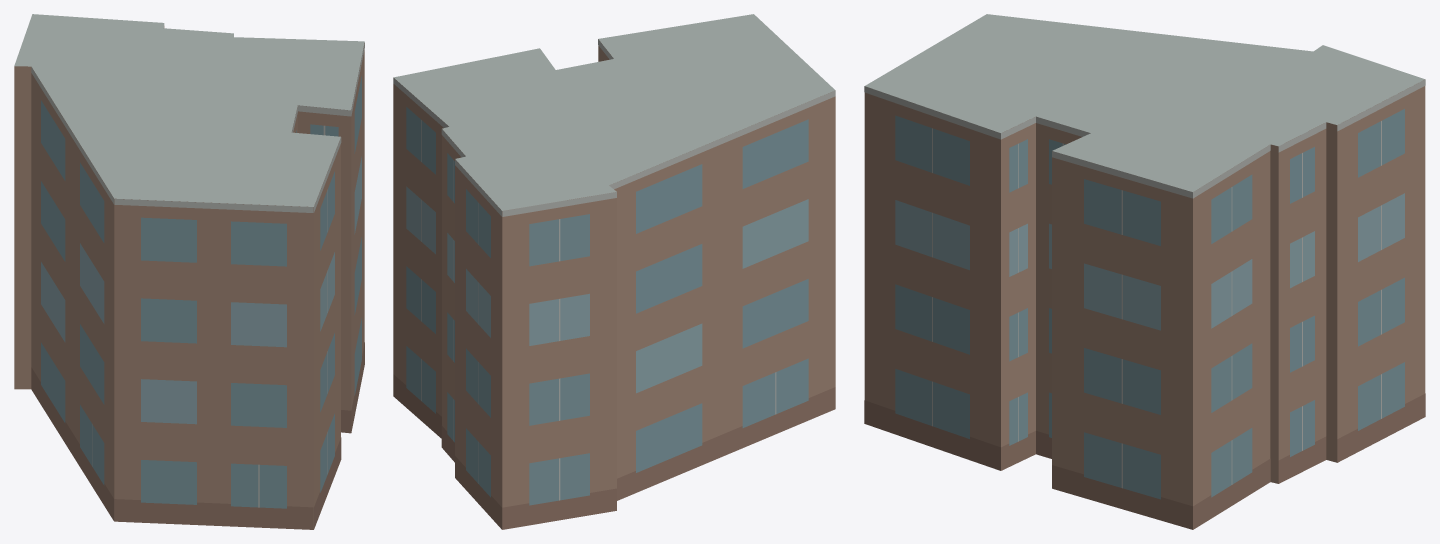
Rendered from survey-upis-32740117.glb.
The picture shows the model from 3 angles, left to right: view 1: azimuth 30°, elevation 25°; view 2: azimuth 150°, elevation 25°; view 3: azimuth 270°, elevation 25°; orthographic projection. The views are drawn at different scales.
Parts seen in each view (by area): view 1: survey-upis-32740117.tmp; view 2: survey-upis-32740117.tmp; view 3: survey-upis-32740117.tmp.
Boxes of the visible parts, x1,y1,x2,y2 form: survey-upis-32740117.tmp: [14, 14, 364, 529]; survey-upis-32740117.tmp: [393, 14, 835, 529]; survey-upis-32740117.tmp: [864, 14, 1425, 529].
Size of the model in its own units: 14.61 by 12.9 by 19.43.
